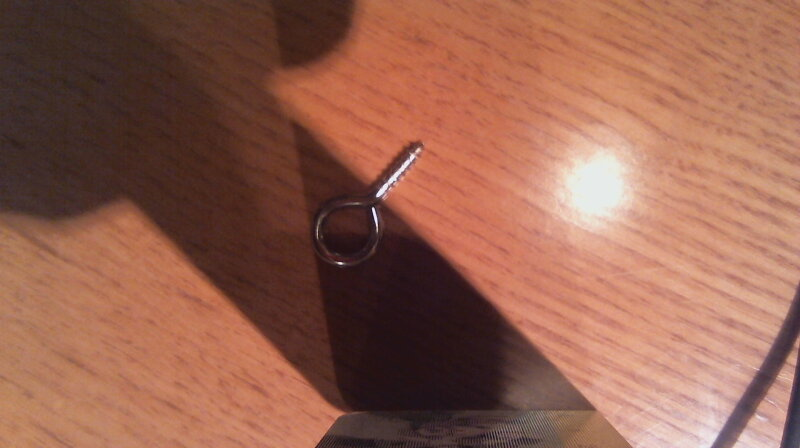O001: (309, 138, 426, 268)
